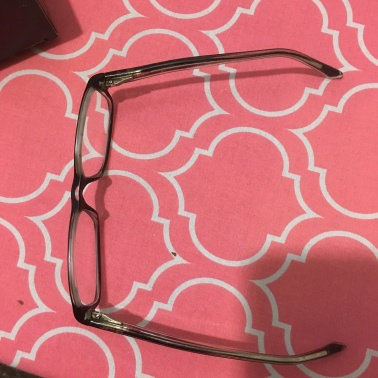glasses: (58, 59, 135, 341)
